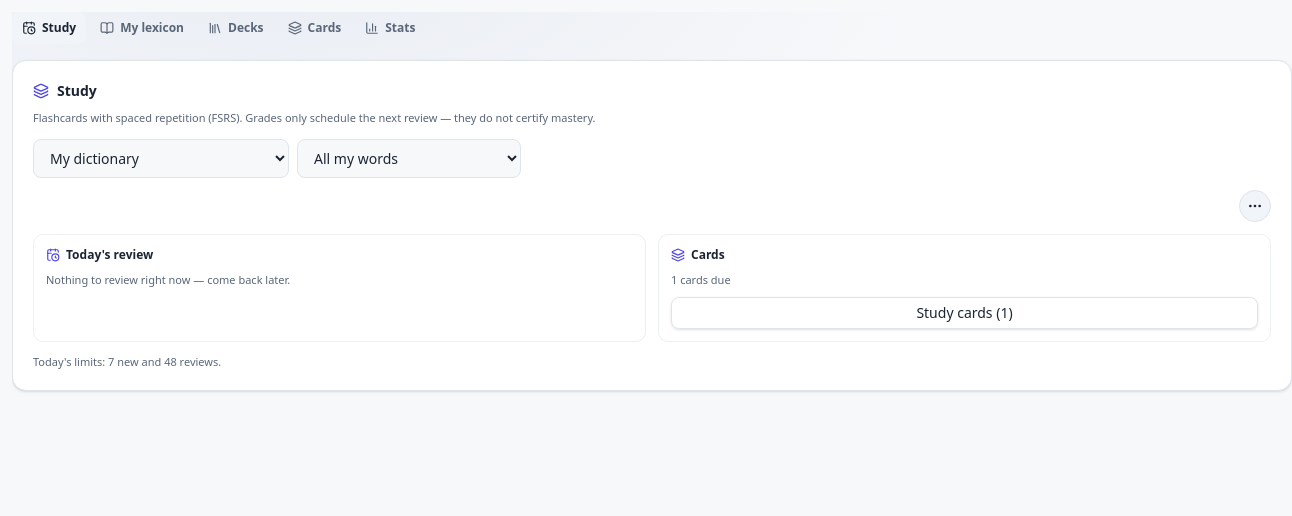
Test: FlashcardsScreen › estudiar califica por el endpoint del mazo y el resumen es alcanzable
Click the button "Study cards (1)".
click(964, 313)  # box [671,297,1258,329]
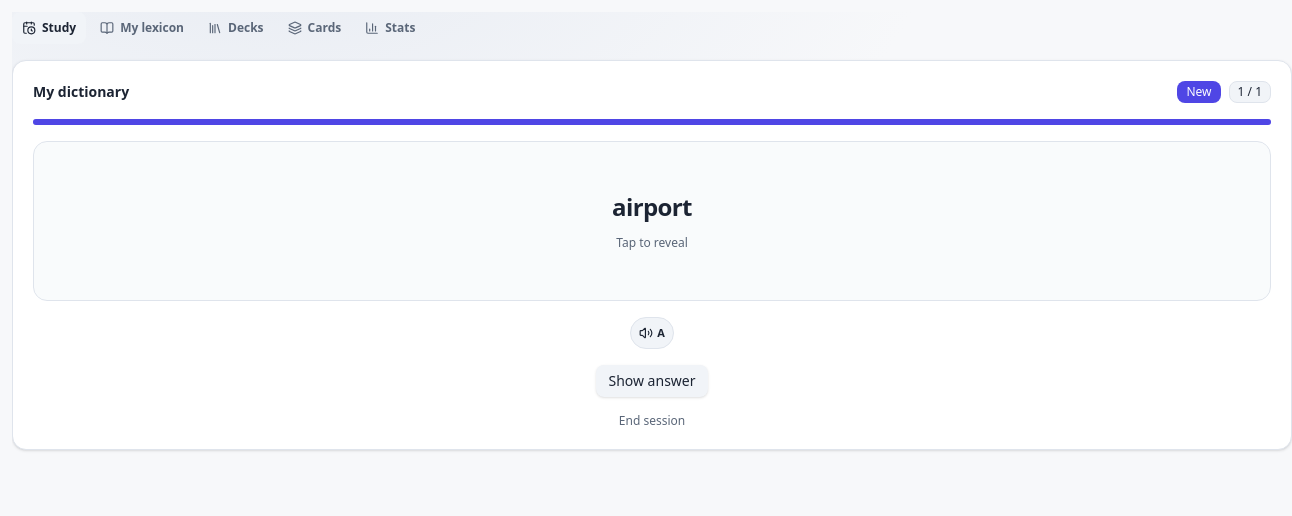
Expected: the text "airport" is shown, [612,191,692,223]
Click the button with aria-label "Flip card".
click(652, 221)  # box [33,141,1271,301]
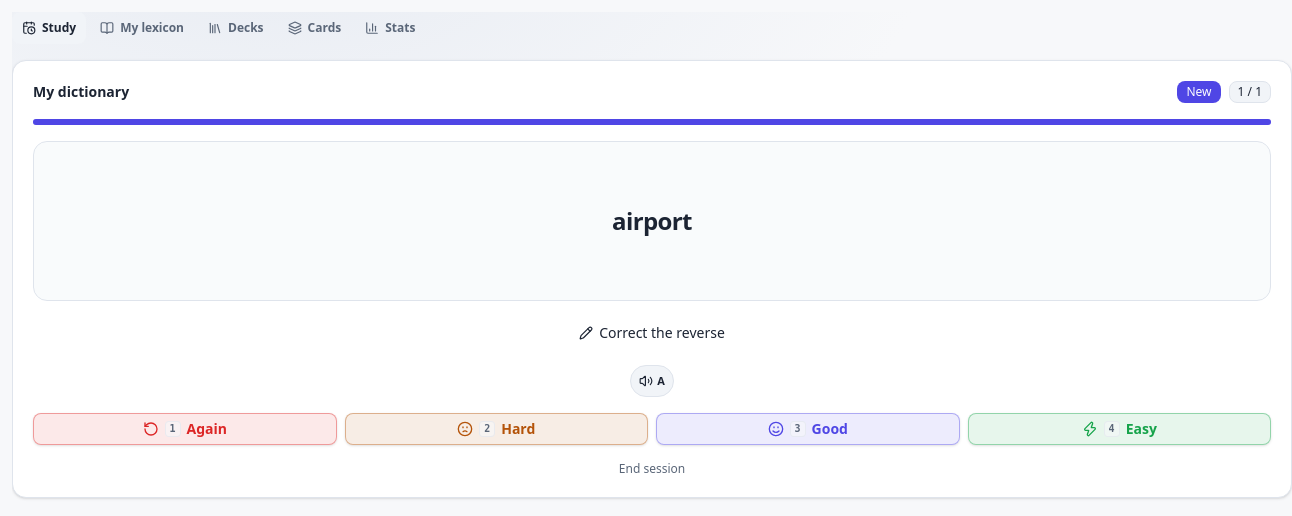
Click the text "Good".
click(830, 429)  # box [812,419,848,439]
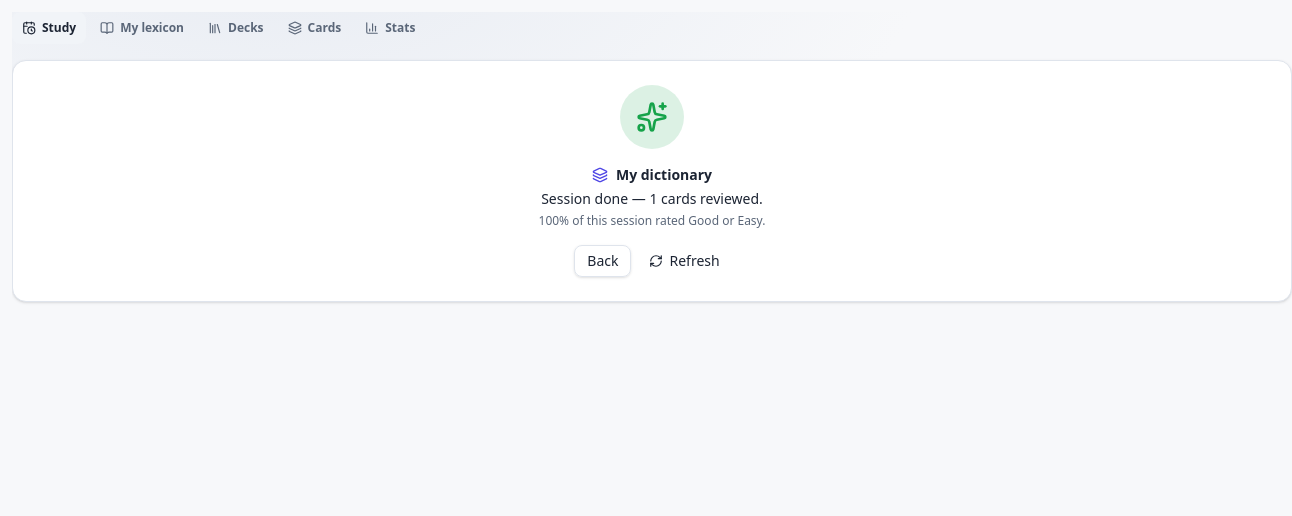
Expected: the text "Session done — 1 cards reviewed." is shown, [541,189,763,209]
